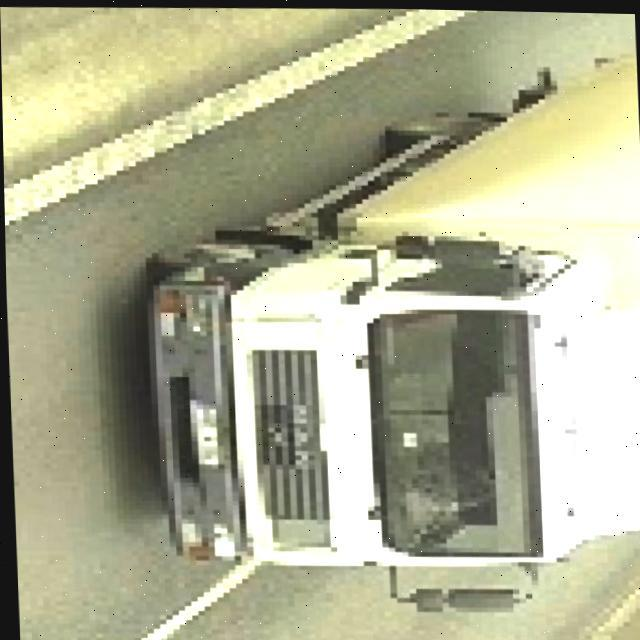truck: (130, 44, 640, 621)
